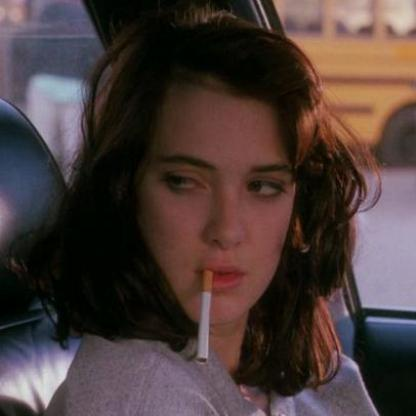cigarette: (194, 268, 216, 366)
person: (70, 18, 350, 415)
